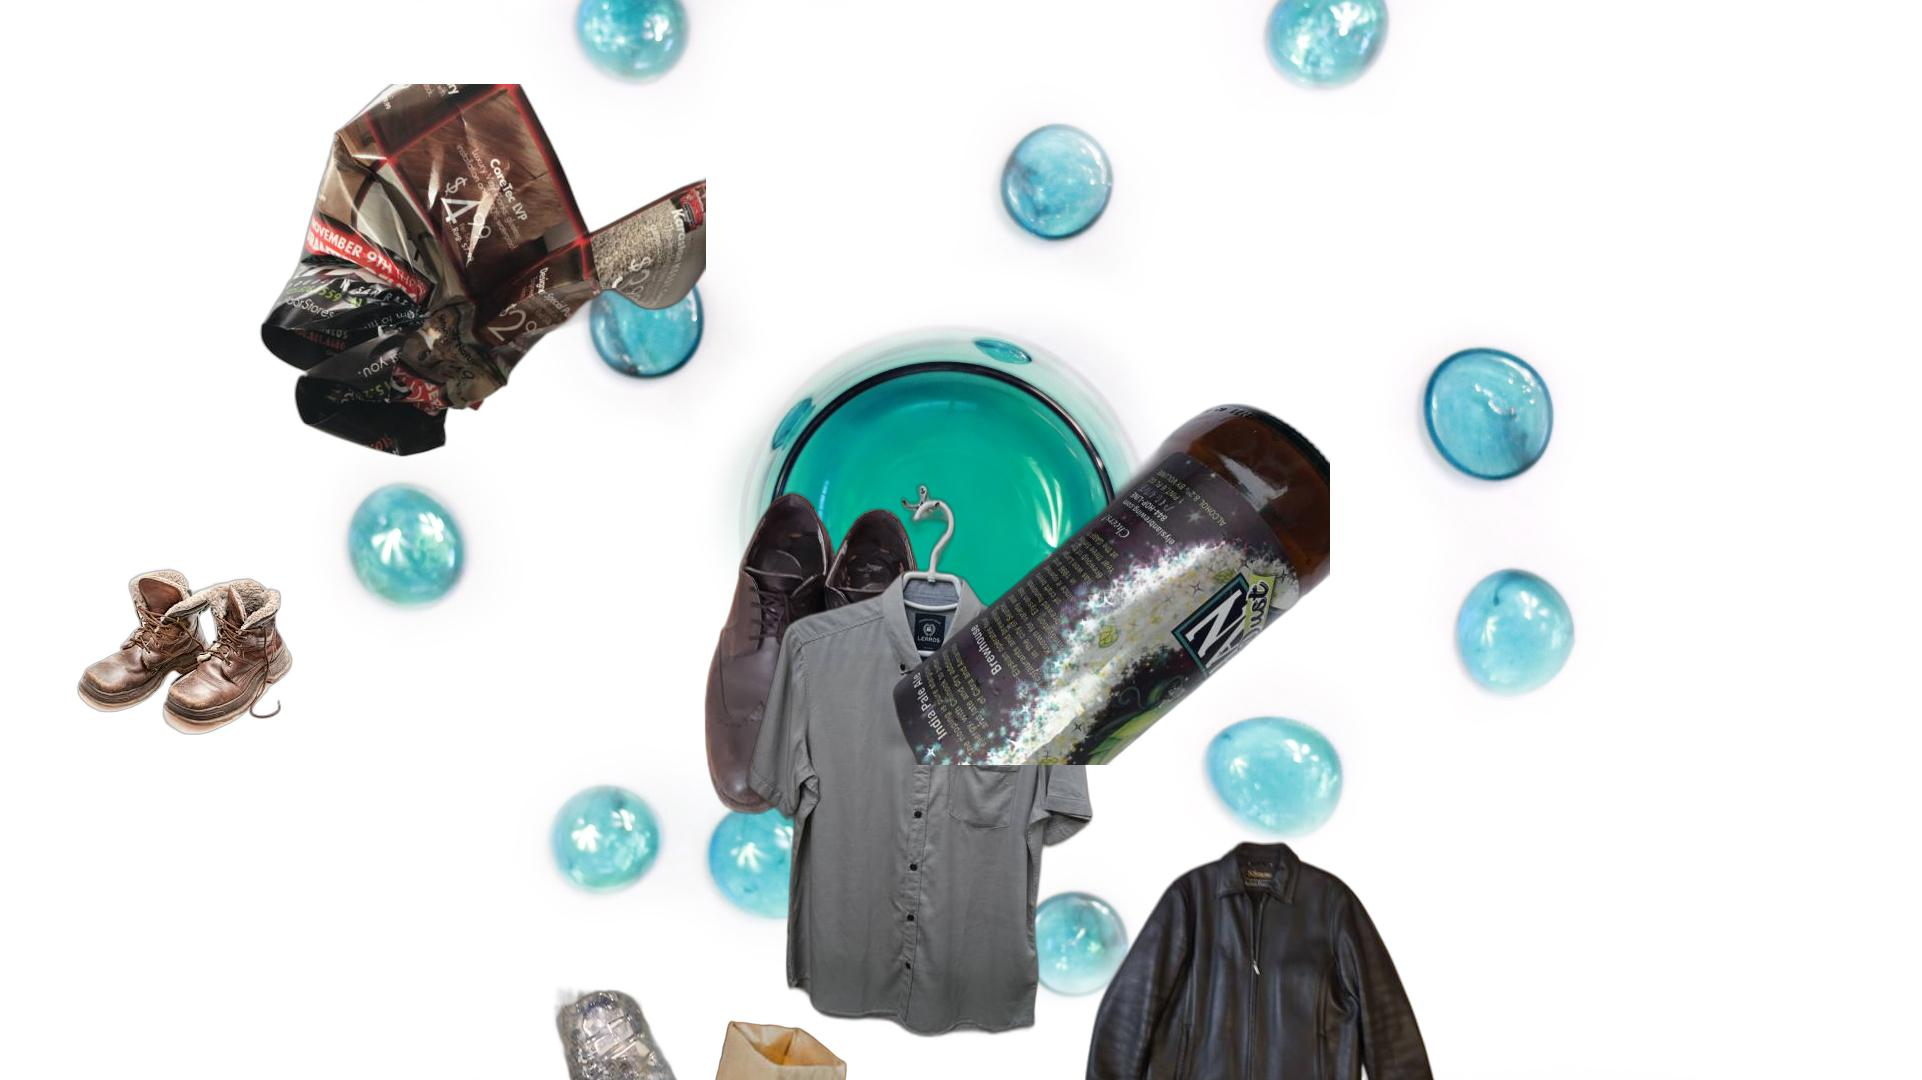clothes: (742, 478, 1096, 1043), (1078, 837, 1447, 1080)
glass: (888, 401, 1331, 764)
paper: (256, 84, 706, 459)
paper-bag: (697, 1019, 849, 1080)
plastic-bottles: (550, 982, 727, 1080)
shoes: (701, 487, 943, 848), (75, 565, 293, 737)
